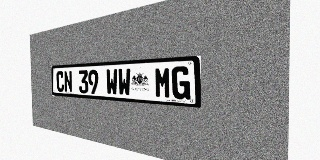3: (79, 70, 88, 93)
9: (88, 69, 98, 94)
C: (56, 71, 64, 92)
G: (172, 66, 190, 100)
M: (154, 67, 171, 99)
N: (64, 70, 72, 93)
W: (118, 68, 131, 96), (106, 69, 118, 95)
